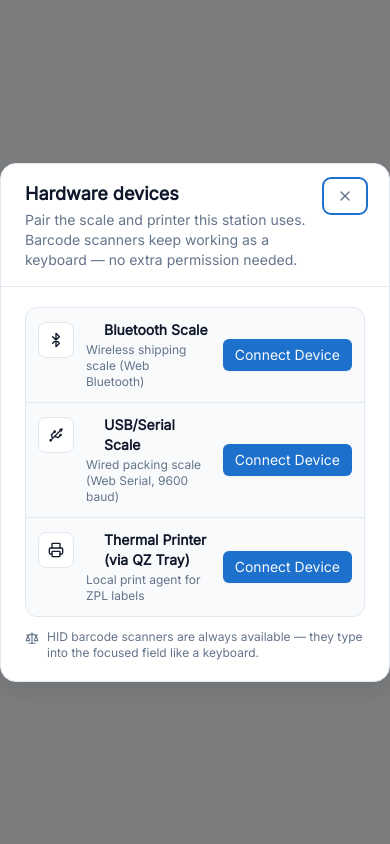
Test: DeviceManagerModal › toasts a Bluetooth pairing failure
Click the button with test id "device-connect-bluetooth-scale": [287, 354] box x1=223 y1=338 x2=352 y2=370
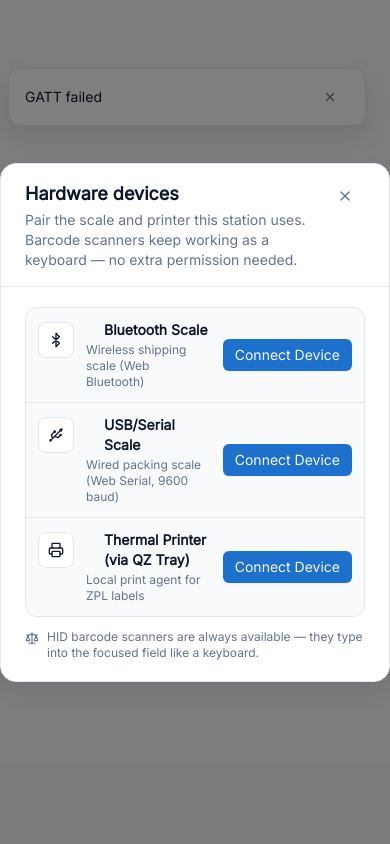
Now the message with test id "app-toast" reads "GATT failed", box x1=25 y1=88 x2=102 y2=105
